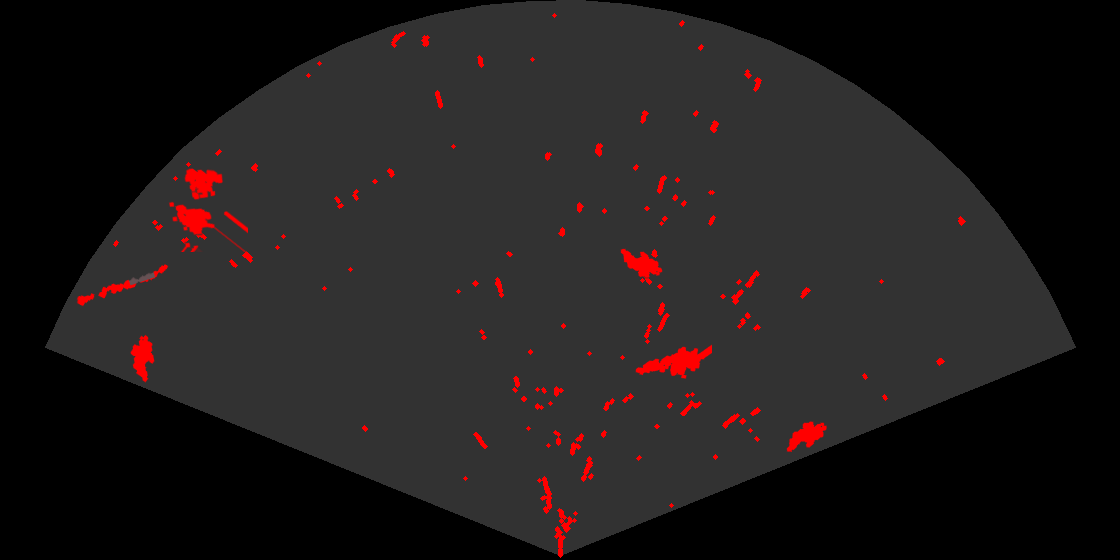AUV: (785, 420, 828, 454), (619, 247, 664, 279), (129, 333, 156, 384)
cage: (167, 167, 248, 252)
chain: (75, 263, 170, 308)
frogman: (634, 343, 712, 380)
